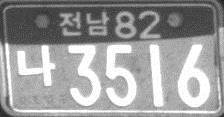1: (147, 42, 164, 108)
2: (137, 9, 162, 40)
3: (66, 43, 102, 107)
5: (104, 43, 137, 108)
6: (176, 43, 212, 109)
8: (115, 9, 136, 38)
나: (15, 44, 56, 88)
전남_O: (57, 9, 109, 36)
